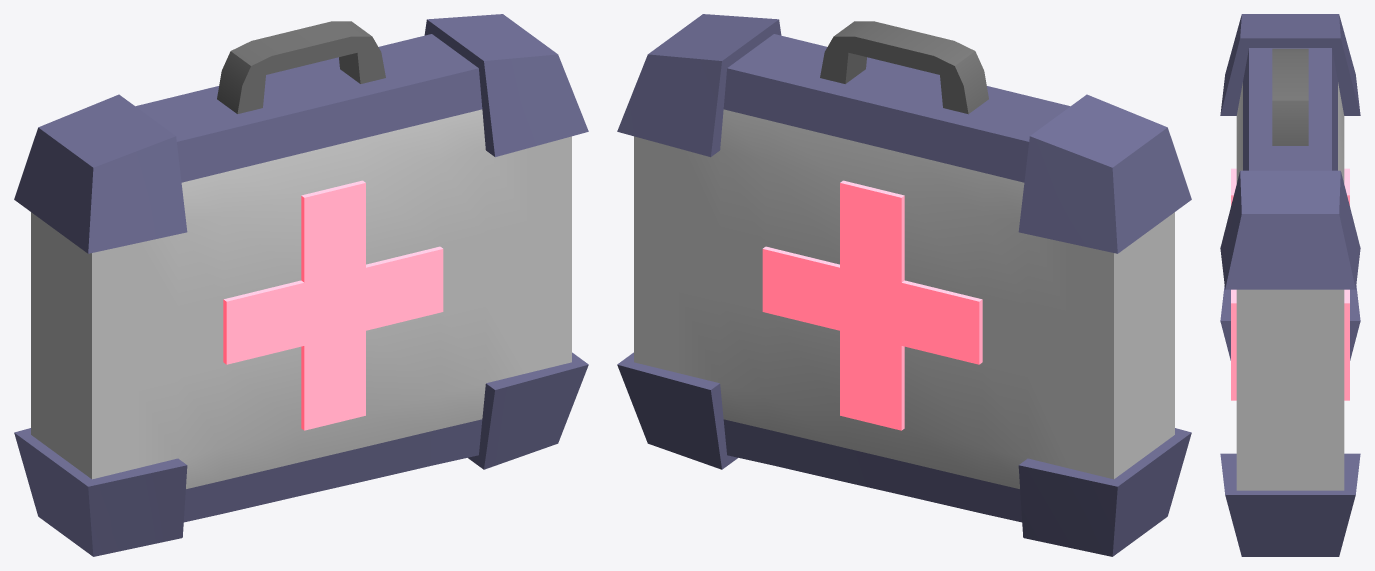
File: big_health (1).fbx
3 renders of one model, left to right at view 1: azimuth 30°, elevation 25°; view 2: azimuth 150°, elevation 25°; view 3: azimuth 270°, elevation 25°, orthographic. The views are drawn at different scales.
Parts seen in each view (by area): view 1: Cube; view 2: Cube; view 3: Cube.
Part boxes in pixels (box(x1,y1,x2,y2)): Cube: box(14, 14, 588, 556); Cube: box(617, 14, 1191, 556); Cube: box(1220, 14, 1360, 556).
Size of the model in its own units: 60.76 by 51.92 by 16.72.
